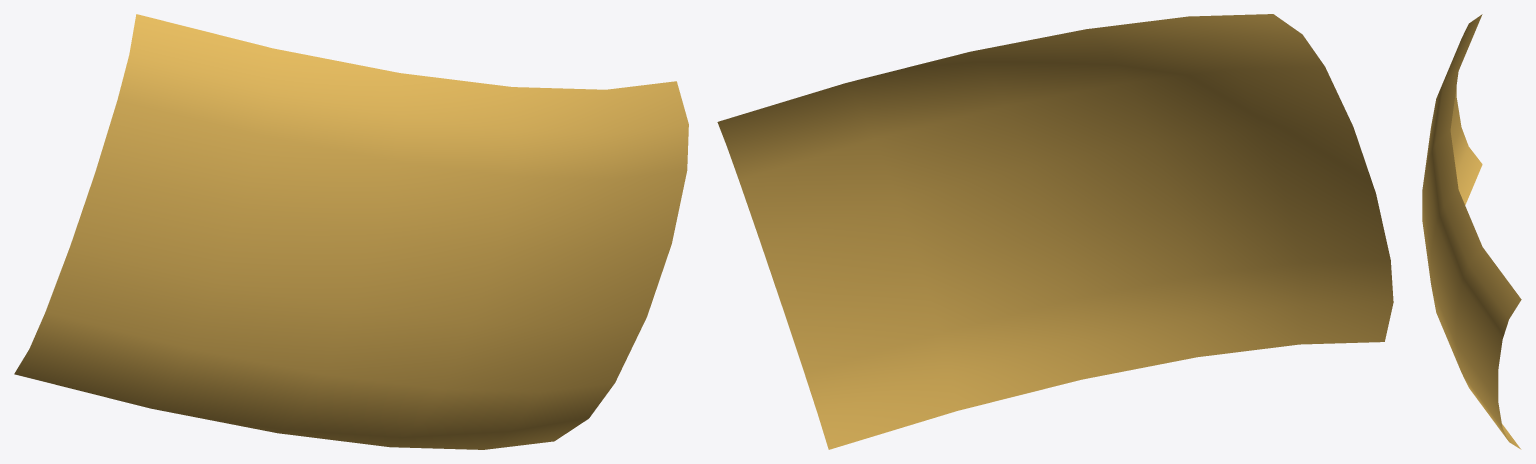
Rendered from ring-decal-2.glb.
The picture shows the model from 3 angles, left to right: view 1: azimuth 30°, elevation 25°; view 2: azimuth 150°, elevation 25°; view 3: azimuth 270°, elevation 25°; orthographic projection. The views are drawn at different scales.
Parts seen in each view (by area): view 1: Ring.003; view 2: Ring.003; view 3: Ring.003.
Part boxes in pixels (bbox=[...]): Ring.003: bbox=[14, 14, 688, 449]; Ring.003: bbox=[717, 14, 1393, 449]; Ring.003: bbox=[1422, 14, 1521, 449].
Size of the model in its own units: 0.2094 by 0.1614 by 0.0464.
